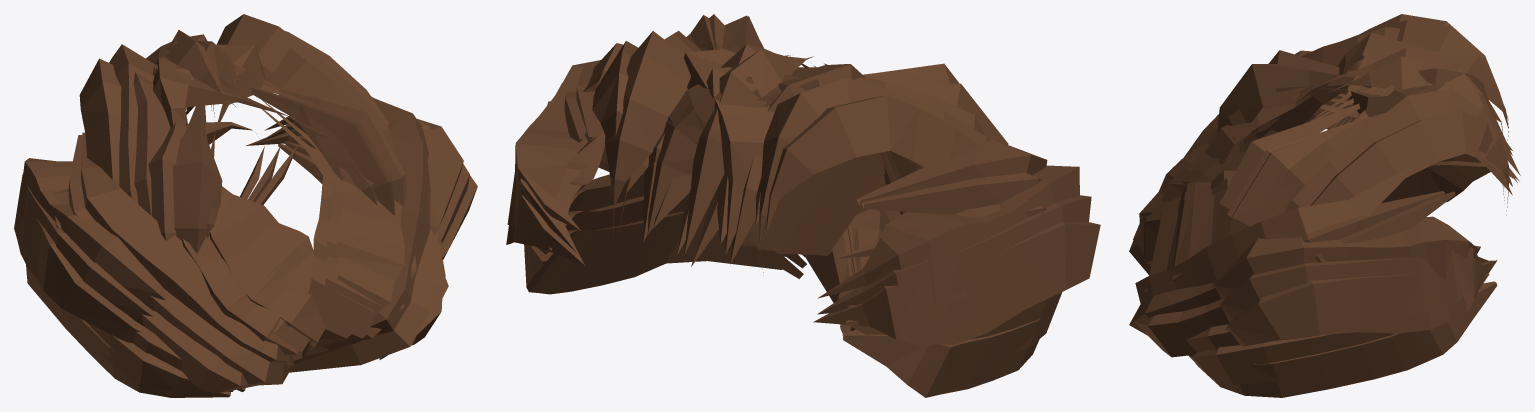
Rendered from PeinadoDensoEtapa2.fbx.
3 views of the same model, side by side, from view 1: azimuth 30°, elevation 25°; view 2: azimuth 150°, elevation 25°; view 3: azimuth 270°, elevation 25° (orthographic). The views are drawn at different scales.
Visible parts, largest first — view 1: PeinadoDensoEtapa2; view 2: PeinadoDensoEtapa2; view 3: PeinadoDensoEtapa2.
Boxes of the visible parts, x1,y1,x2,y2 form: PeinadoDensoEtapa2: (14,14,477,397); PeinadoDensoEtapa2: (506,14,1100,397); PeinadoDensoEtapa2: (1129,14,1520,397).
Size of the model in its own units: 1.56 by 1.02 by 1.25.
